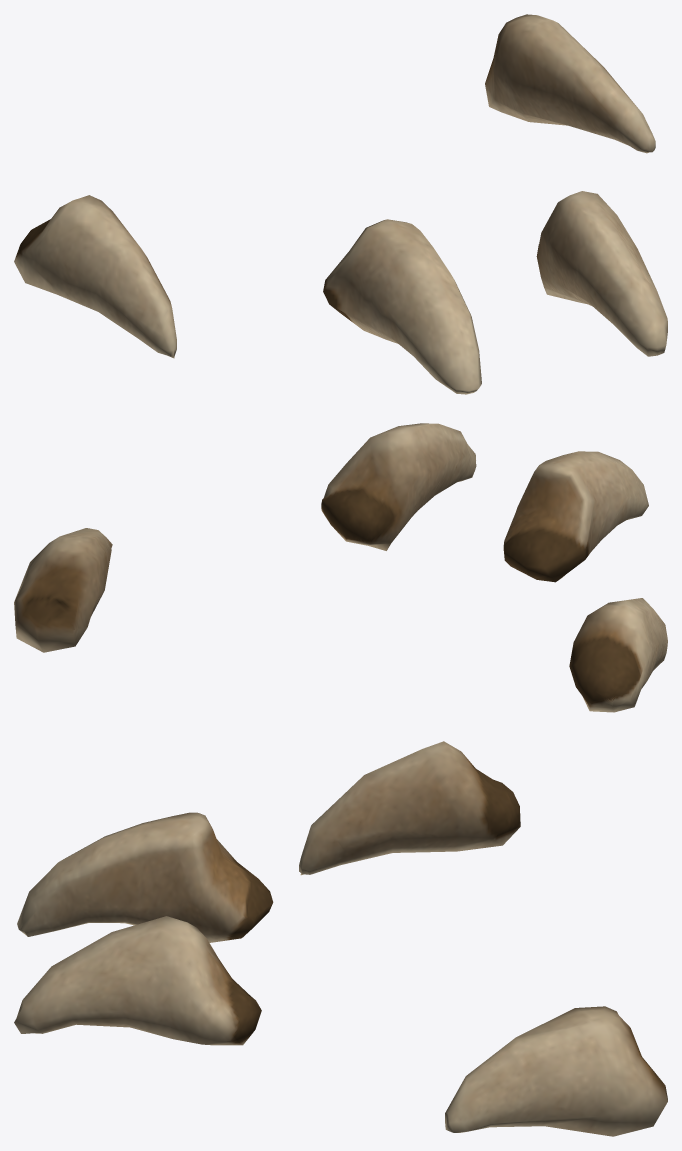
The model's file is Distal Phalanges.glb.
3 renders of one model, top to bottom at view 1: azimuth 30°, elevation 25°; view 2: azimuth 150°, elevation 25°; view 3: azimuth 270°, elevation 25°, orthographic. The views are drawn at different scales.
Visible parts, largest first — view 1: polySurface51, polySurface52, polySurface49, polySurface50; view 2: polySurface51, polySurface50, polySurface49, polySurface52; view 3: polySurface51, polySurface50, polySurface49, polySurface52.
Boxes of the visible parts, <box> form: polySurface51: <box>323,219,481,394</box>; polySurface52: <box>14,195,176,358</box>; polySurface49: <box>485,14,655,153</box>; polySurface50: <box>536,191,667,356</box>; polySurface51: <box>503,451,648,582</box>; polySurface50: <box>321,423,476,550</box>; polySurface49: <box>14,528,112,652</box>; polySurface52: <box>569,598,667,712</box>; polySurface51: <box>17,812,273,942</box>; polySurface50: <box>14,916,261,1045</box>; polySurface49: <box>445,1006,667,1136</box>; polySurface52: <box>299,741,520,875</box>.
Bounding box in the file's own units: 37.47 × 7.75 × 33.17.
Materials: 1 (1 with a texture image).
